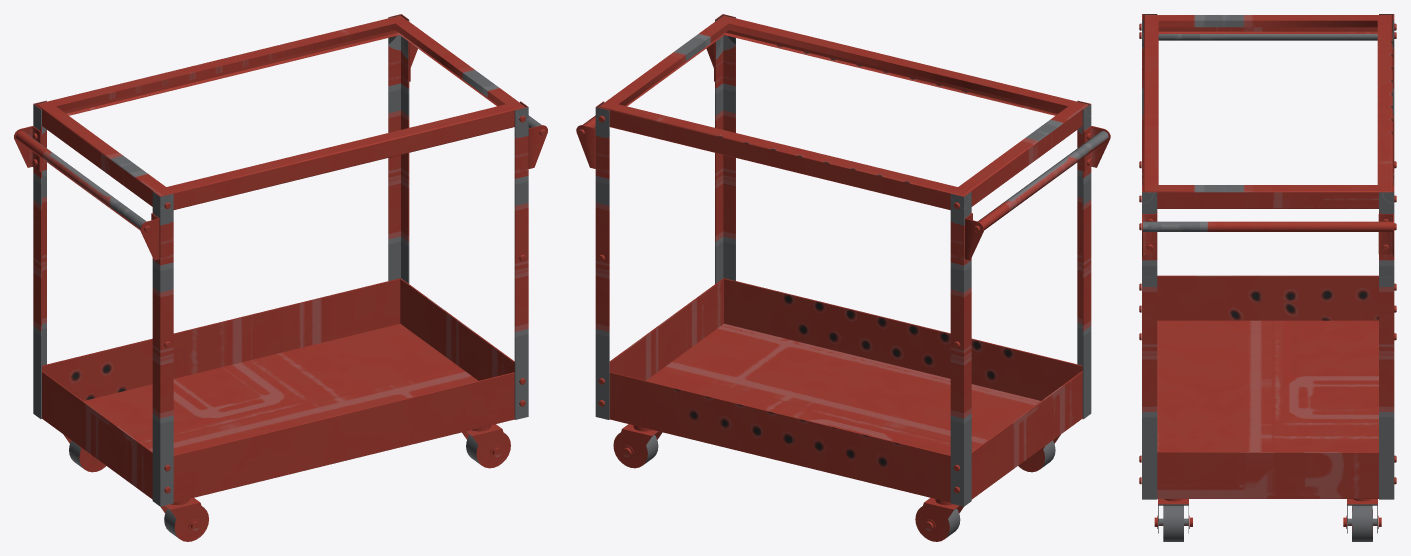
The model's file is Toolbox_Constructible.fbx.
The picture shows the model from 3 angles, left to right: view 1: azimuth 30°, elevation 25°; view 2: azimuth 150°, elevation 25°; view 3: azimuth 270°, elevation 25°; orthographic projection.
Visible parts, largest first — view 1: Toolbox_Stage0; view 2: Toolbox_Stage0; view 3: Toolbox_Stage0.
Boxes of the visible parts, x1,y1,x2,y2 form: Toolbox_Stage0: (14, 14, 547, 541); Toolbox_Stage0: (576, 14, 1110, 541); Toolbox_Stage0: (1139, 14, 1396, 541).
Size of the model in its own units: 1.05 by 0.8917 by 0.578.
1 material, 1 textured.
